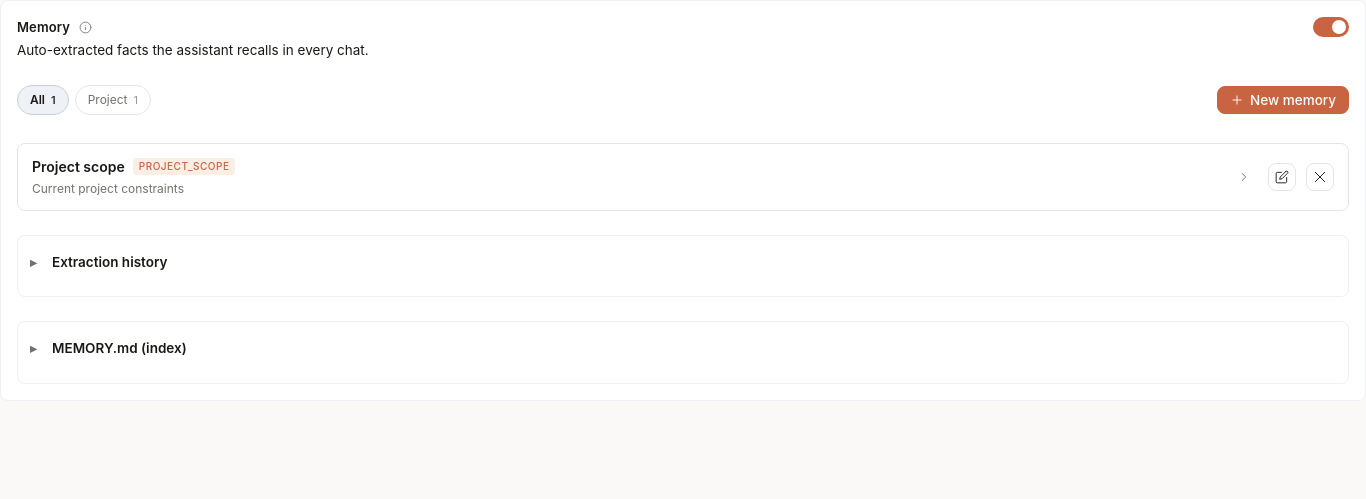
Test: MemorySection › keeps the expanded preview control visually distinct from delete
The image size is (1366, 499).
Click the button titled "Preview": (1244, 177) left=1230, top=163, right=1258, bottom=191
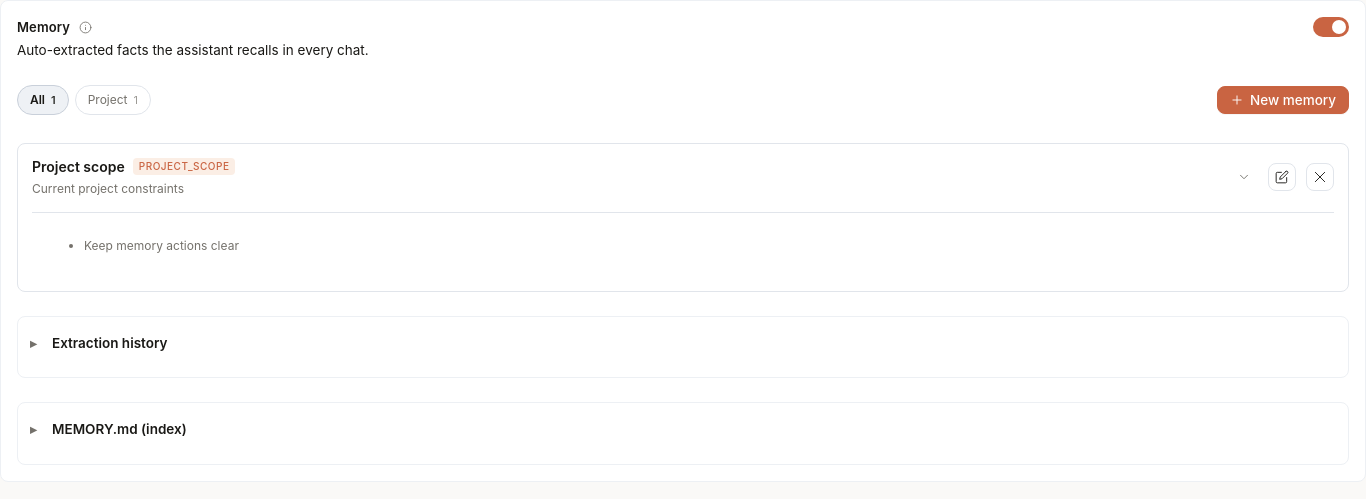
Expected: the 3rd icon is shown, left=1237, top=170, right=1251, bottom=184
Expected: the list item "Keep memory actions clear" is shown, left=84, top=238, right=239, bottom=253
